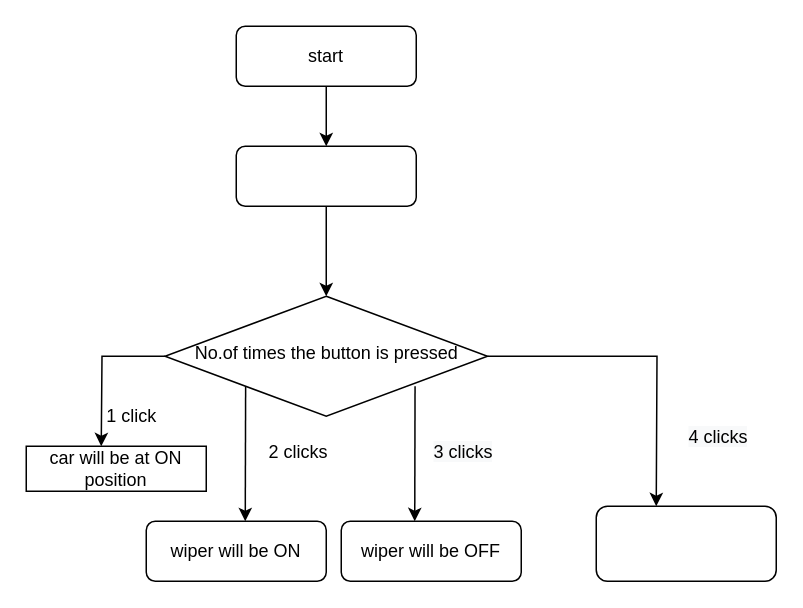
The diagram is 803 pixels wide and 608 high, and some of its shapes have lost their labels. Here are the shapes that lost their labels. From the top down, the centre of each, then its label:
At point 325,175: "user switch".
At point 685,543: "car will be at OFF position".
